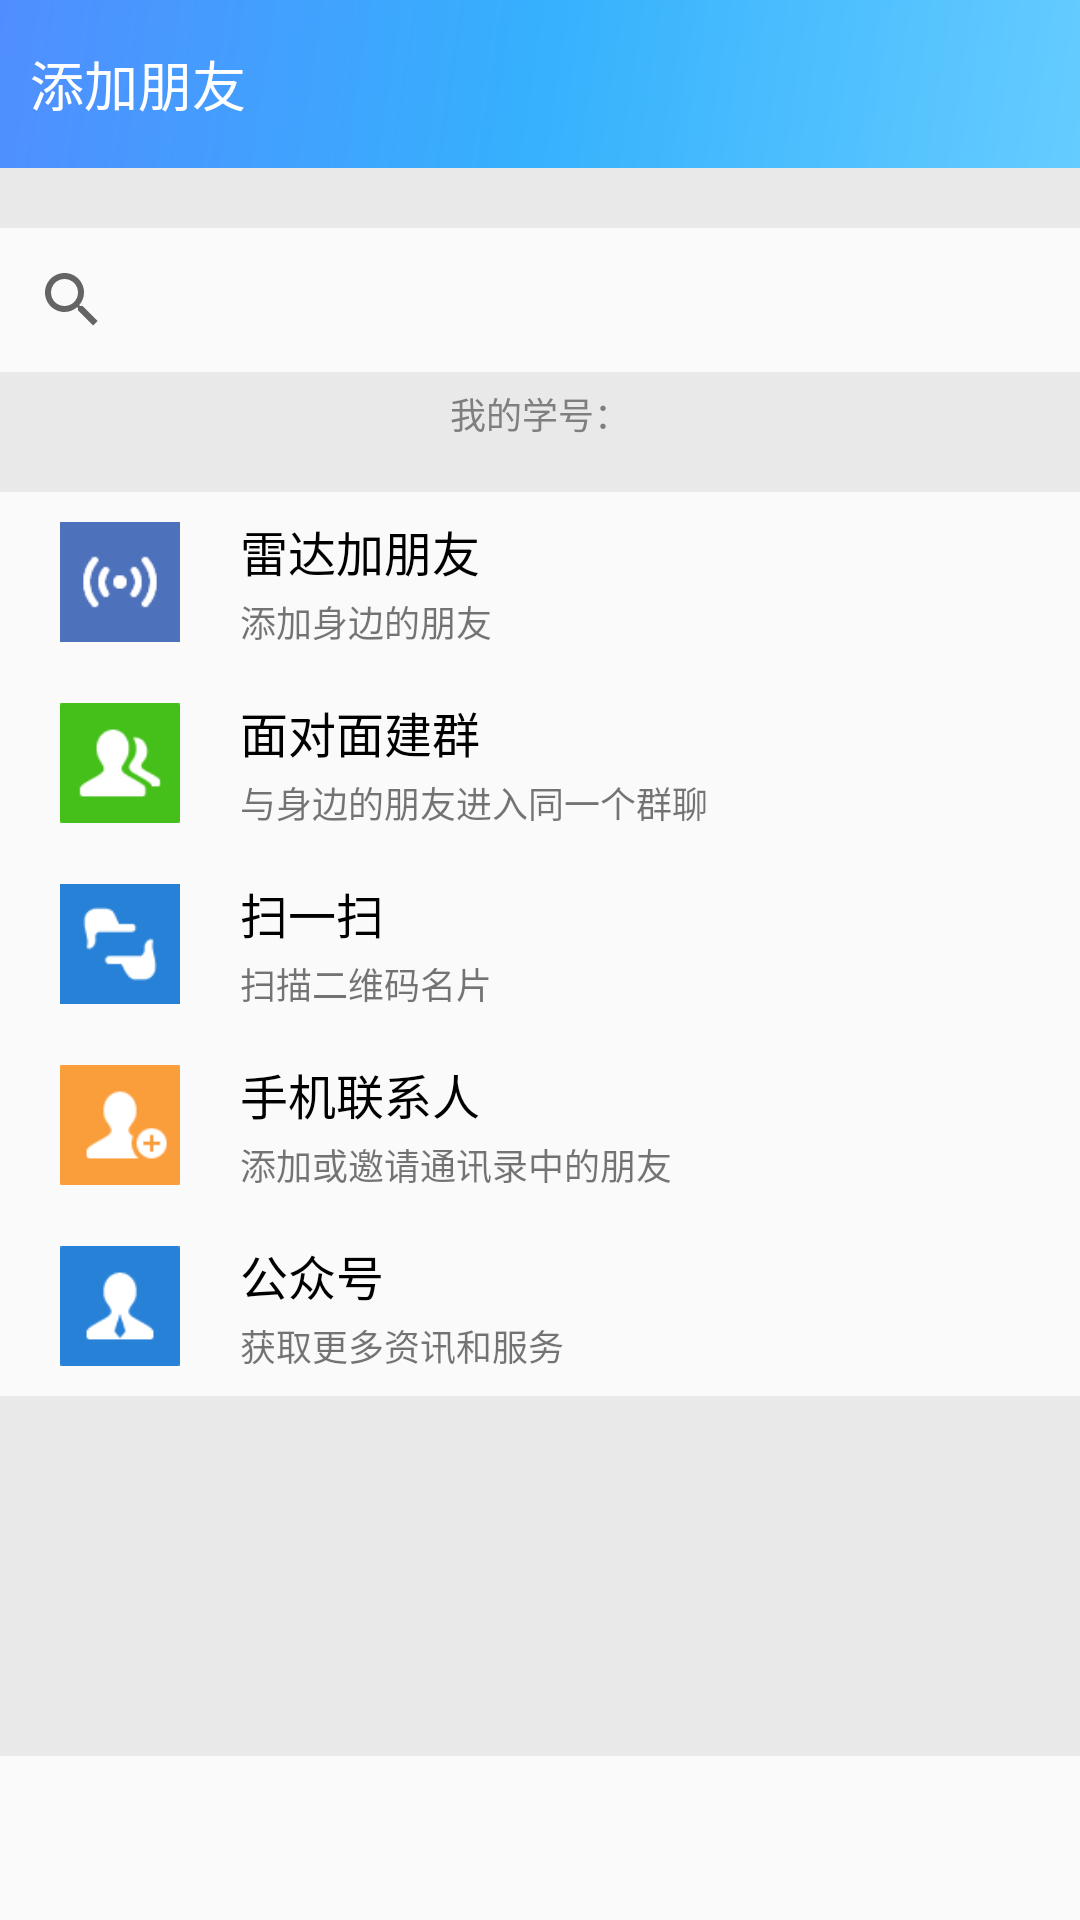

Icon bounding boxes for this 1080 x 1920 phone screenshot, format box=[x1, y1, x2, y2]:
friend: box=[60, 1065, 180, 1185]
group chat: box=[60, 703, 180, 823]
radar: box=[60, 522, 180, 642]
